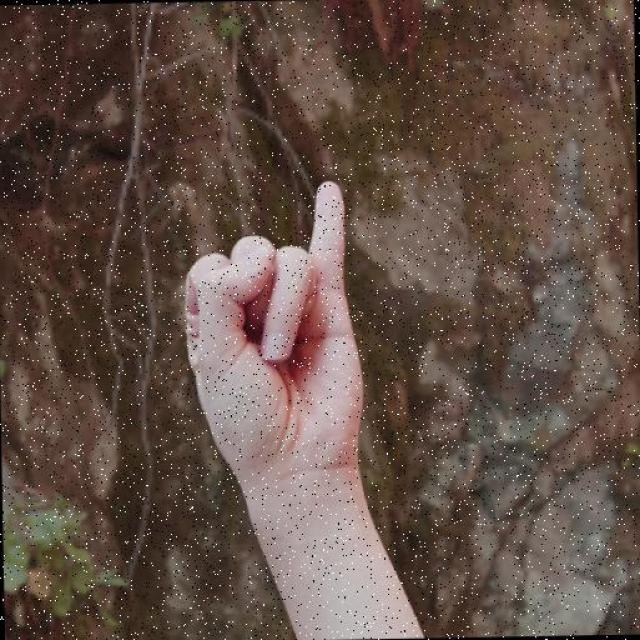I: (181, 178, 368, 487)
